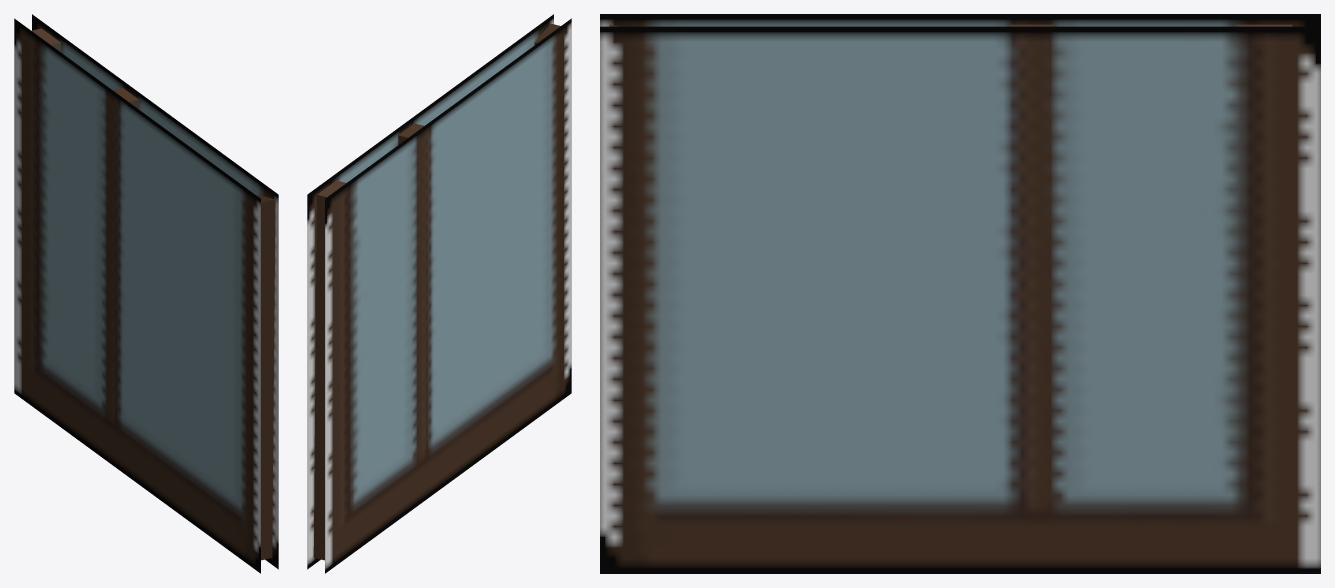
The model's file is pz_native_location_hospitality_sunstarmotel_01_29_frame.obj.
The picture shows the model from 3 angles, left to right: view 1: azimuth 30°, elevation 25°; view 2: azimuth 150°, elevation 25°; view 3: azimuth 270°, elevation 25°; orthographic projection. The views are drawn at different scales.
Visible parts, largest first — view 1: pz_native_location_hospitality_sunstarmotel_01_29_frame; view 2: pz_native_location_hospitality_sunstarmotel_01_29_frame; view 3: pz_native_location_hospitality_sunstarmotel_01_29_frame.
Part boxes in pixels (x1,y1,x2,y2): pz_native_location_hospitality_sunstarmotel_01_29_frame: (14,14,278,573); pz_native_location_hospitality_sunstarmotel_01_29_frame: (307,14,571,573); pz_native_location_hospitality_sunstarmotel_01_29_frame: (600,14,1320,573).
Size of the model in its own units: 0.04 by 0.8125 by 0.9696.
Materials: 1 (1 with a texture image).
